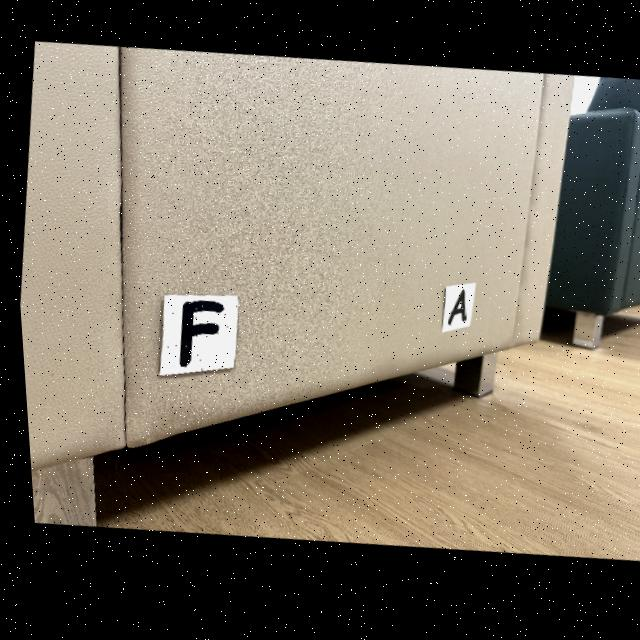A: (443, 294, 461, 329)
V: (154, 296, 233, 377), (174, 303, 218, 368)
